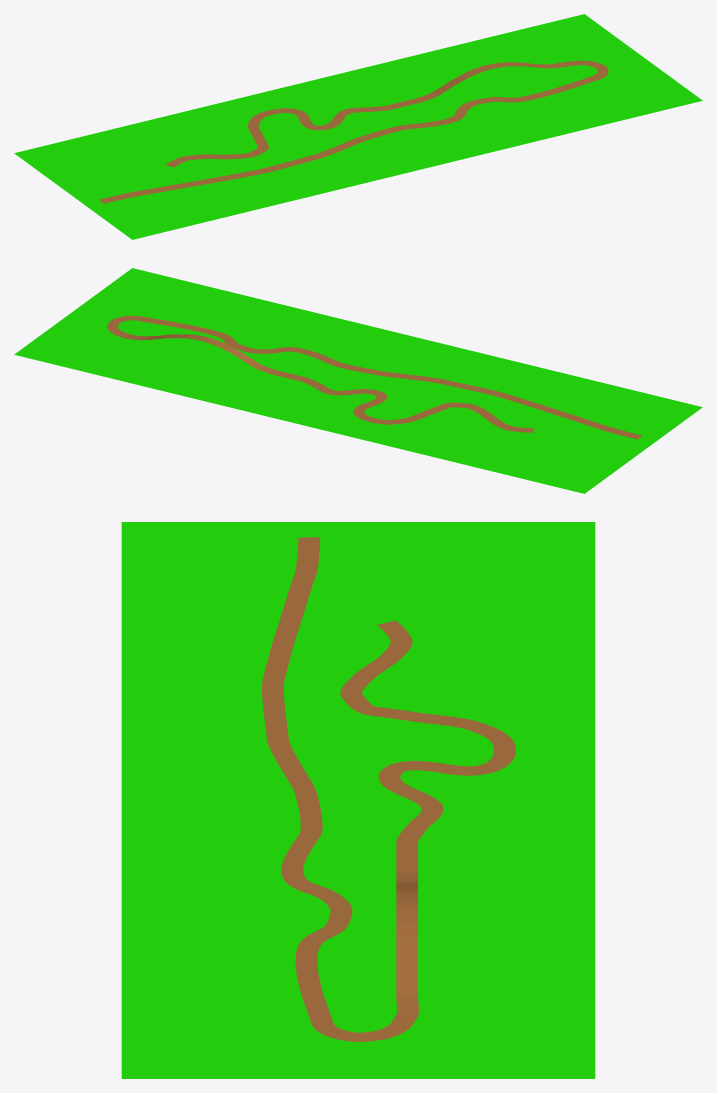
The model's file is race_track_5a.fbx.
3 views of the same model, one above another, from view 1: azimuth 30°, elevation 25°; view 2: azimuth 150°, elevation 25°; view 3: azimuth 270°, elevation 25° (orthographic). The views are drawn at different scales.
Visible parts, largest first — view 1: RaceTrack_Off-road, RaceTrack_Ground; view 2: RaceTrack_Off-road, RaceTrack_Ground; view 3: RaceTrack_Off-road, RaceTrack_Ground.
Boxes of the visible parts, x1,y1,x2,y2 form: RaceTrack_Off-road: (14,14,702,239); RaceTrack_Ground: (99,60,608,203); RaceTrack_Off-road: (14,268,702,493); RaceTrack_Ground: (107,315,642,439); RaceTrack_Off-road: (121,522,595,1078); RaceTrack_Ground: (262,537,515,1041).
Size of the model in its own units: 68670 by 1861 by 24694.
